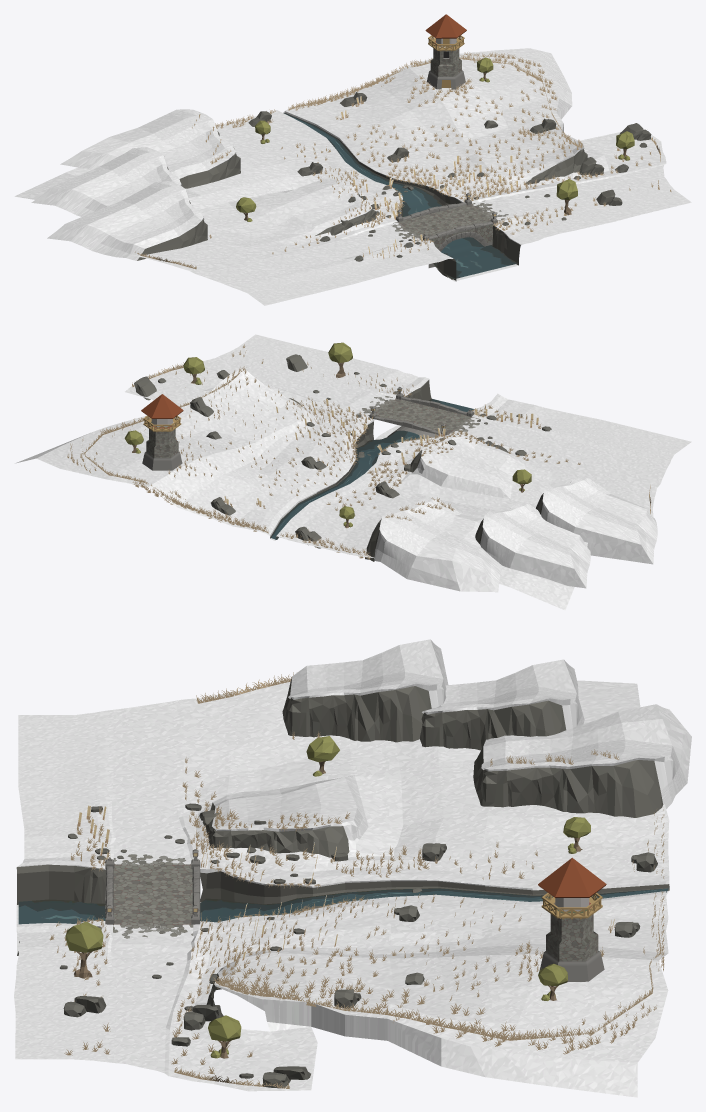
File: plainsDio.fbx
3 views of the same model, one above another, from view 1: azimuth 30°, elevation 25°; view 2: azimuth 150°, elevation 25°; view 3: azimuth 270°, elevation 25° (orthographic). The views are drawn at different scales.
Visible parts, largest first — view 1: plainsDioGround, plainsProps, plainsDioGrass, plainsDioBridge, plainsDioRiver, plainsDioGrassTile; view 2: plainsDioGround, plainsProps, plainsDioGrass, plainsDioBridge, plainsDioRiver, plainsDioGrassTile; view 3: plainsDioGround, plainsProps, plainsDioGrass, plainsDioBridge, plainsDioRiver, plainsDioGrassTile.
Part boxes in pixels (x1,y1,x2,y2): plainsDioGround: (14,48,691,305); plainsProps: (31,14,651,261); plainsDioGrass: (192,52,671,258); plainsDioBridge: (391,193,508,267); plainsDioRiver: (283,112,517,279); plainsDioGrassTile: (135,55,660,269); plainsDioGround: (15,334,691,610); plainsProps: (124,342,657,592); plainsDioGrass: (67,344,580,559); plainsDioBridge: (358,387,480,438); plainsDioRiver: (270,398,474,539); plainsDioGrassTile: (83,362,651,533); plainsDioGround: (14,679,669,1097); plainsProps: (60,639,691,1088); plainsDioGrass: (49,731,664,1073); plainsDioBridge: (105,849,200,938); plainsDioRiver: (18,888,668,924); plainsDioGrassTile: (174,672,661,1088).
Size of the model in its own units: 99.61 by 19.01 by 62.66.
